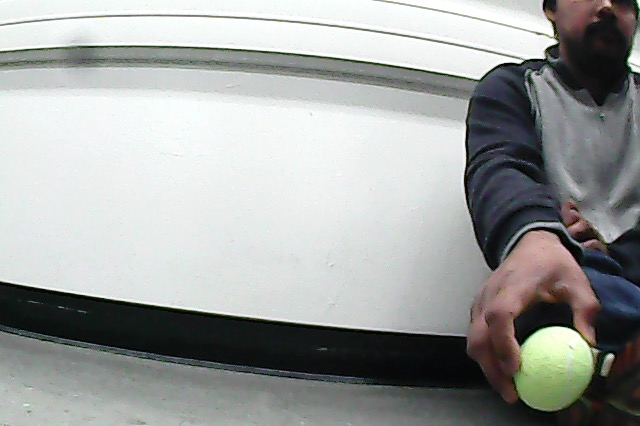ball: (509, 320, 597, 414)
